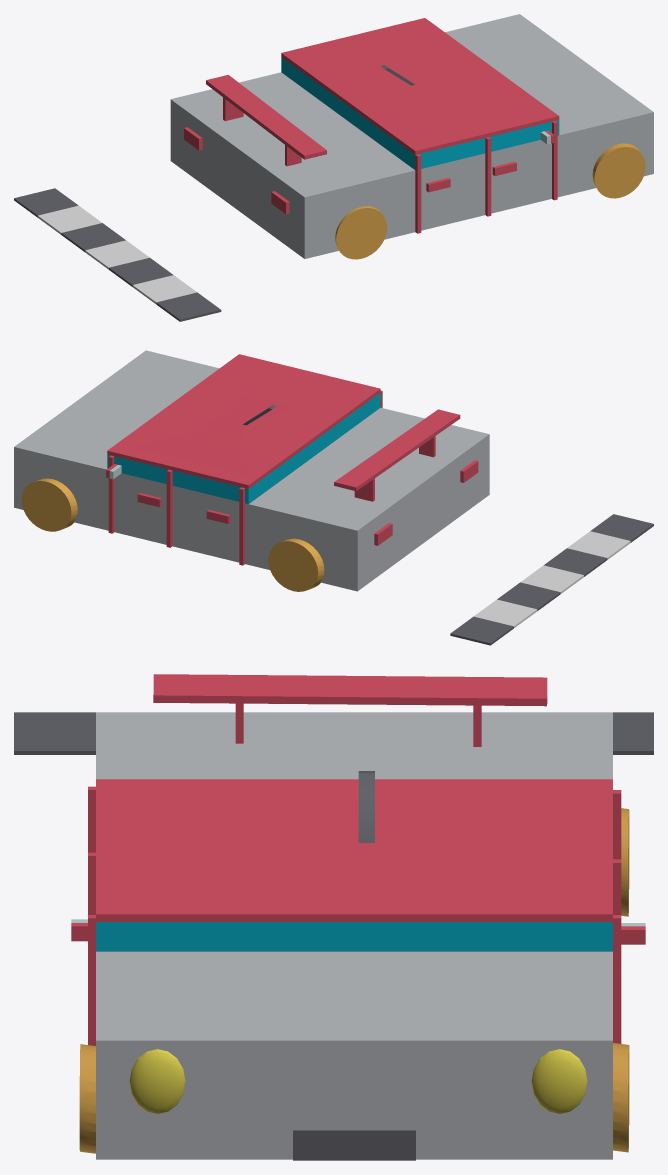
3 renders of one model, top to bottom at view 1: azimuth 30°, elevation 25°; view 2: azimuth 150°, elevation 25°; view 3: azimuth 270°, elevation 25°, orthographic. The views are drawn at different scales.
Parts seen in each view (by area): view 1: Object_2; view 2: Object_2; view 3: Object_2.
Boxes of the visible parts, <box> form: Object_2: <box>14,14,653,321</box>; Object_2: <box>14,350,653,645</box>; Object_2: <box>14,674,653,1160</box>.
Size of the model in its own units: 136 by 30 by 78.
